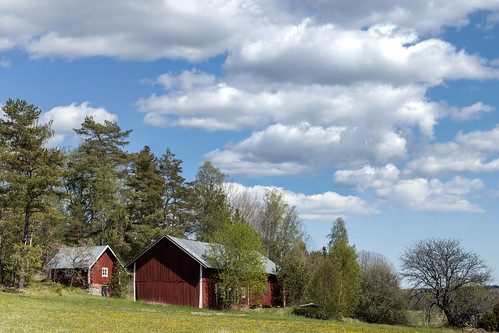building: (135, 237, 281, 305), (50, 245, 124, 294)
sky: (20, 1, 494, 176)
tree: (395, 236, 488, 333)
vegetation: (1, 119, 360, 311)
